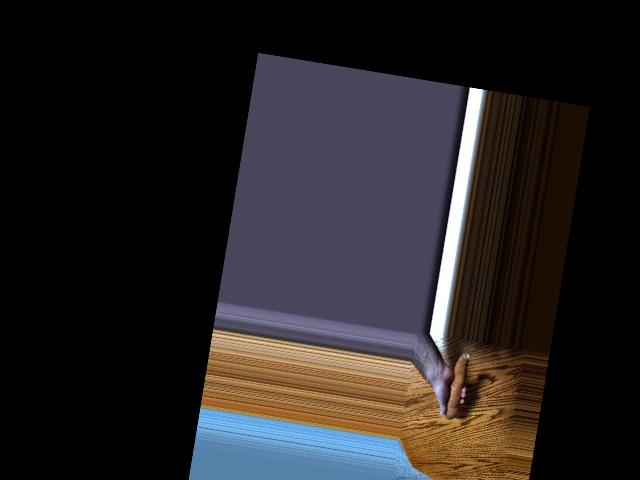sweet_potato: (439, 349, 469, 418)
